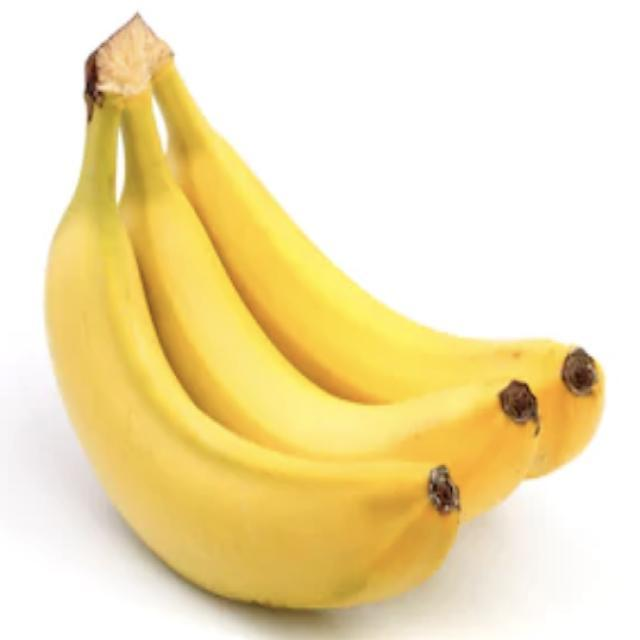Banana: (42, 10, 605, 612)
